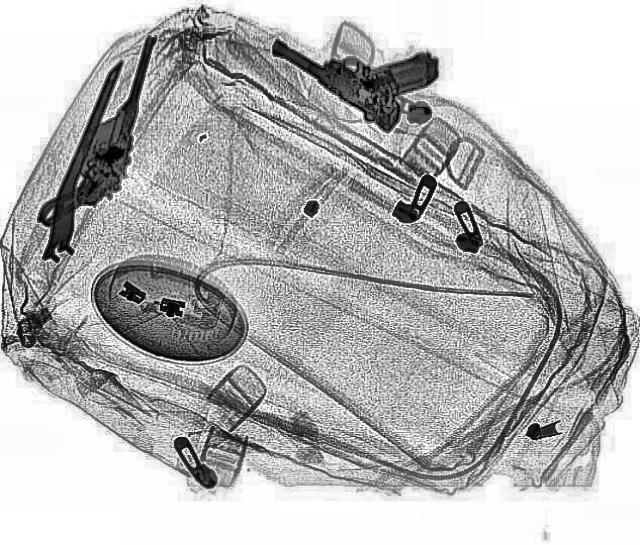Gun: (34, 25, 160, 235), (266, 0, 444, 132)
